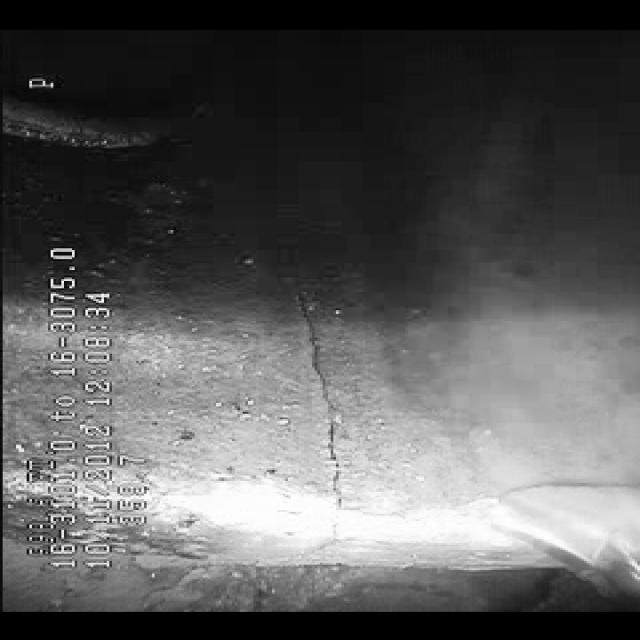Crack: (280, 267, 362, 555)
